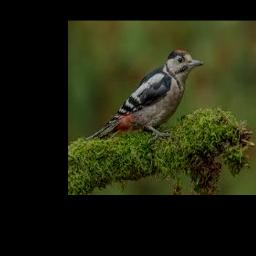Woodpecker: (87, 49, 204, 141)
